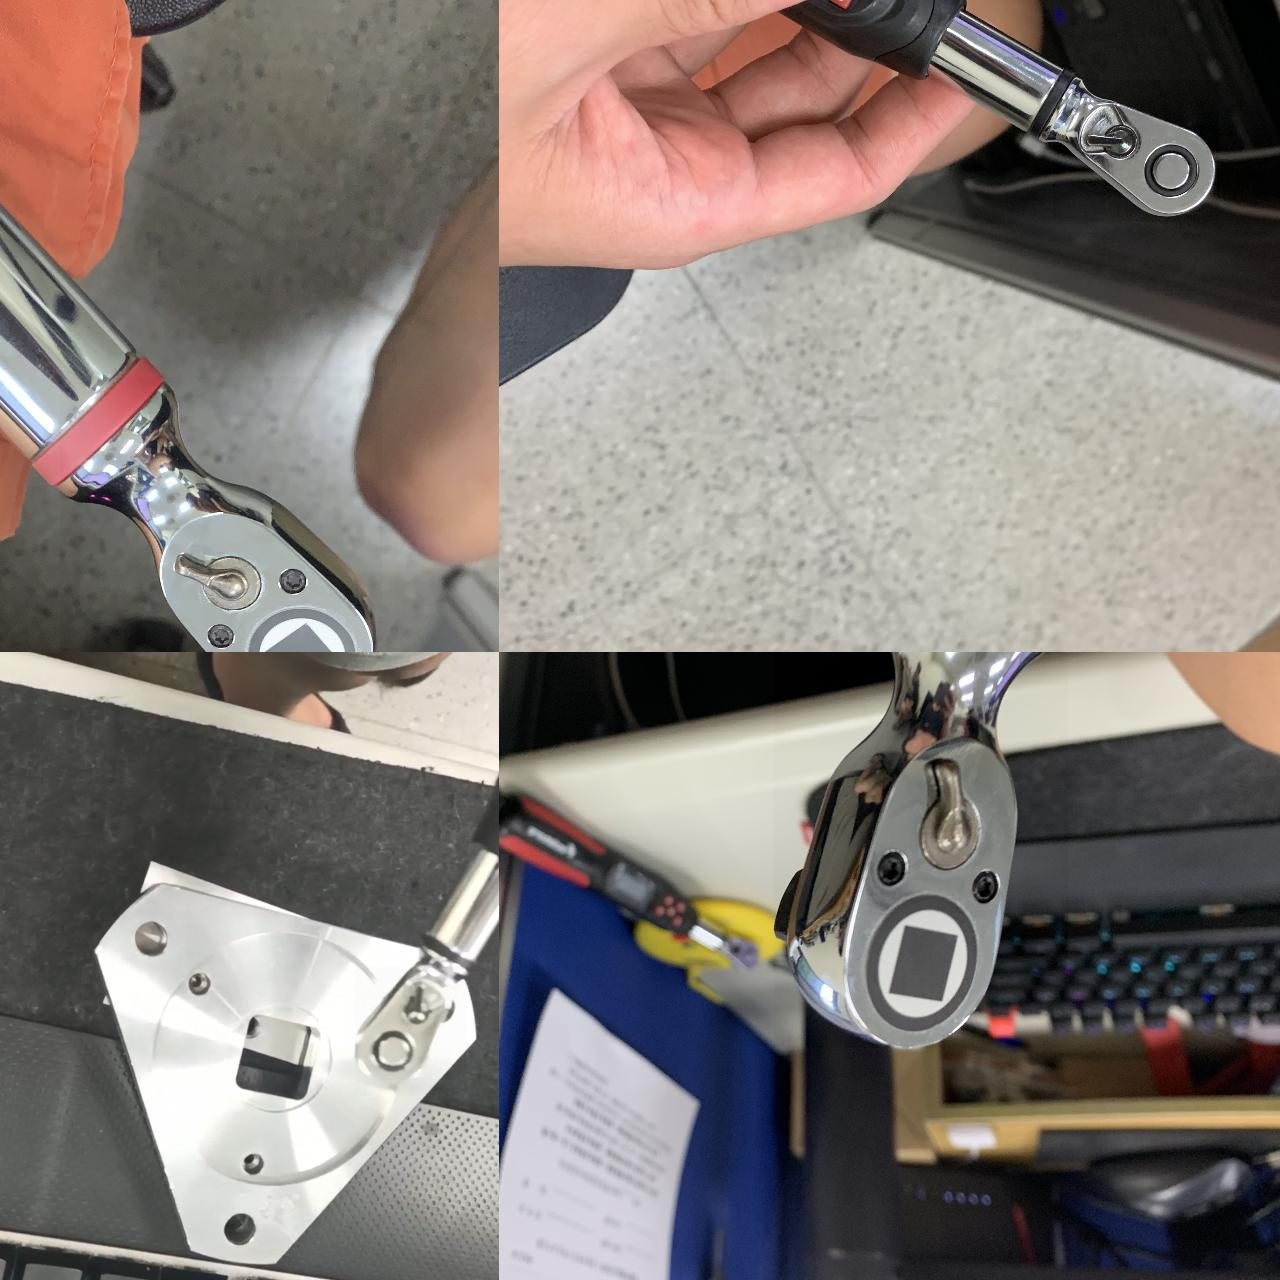Tool: (774, 652, 1068, 1048), (60, 377, 382, 652), (1053, 80, 1219, 222), (355, 967, 467, 1095)
